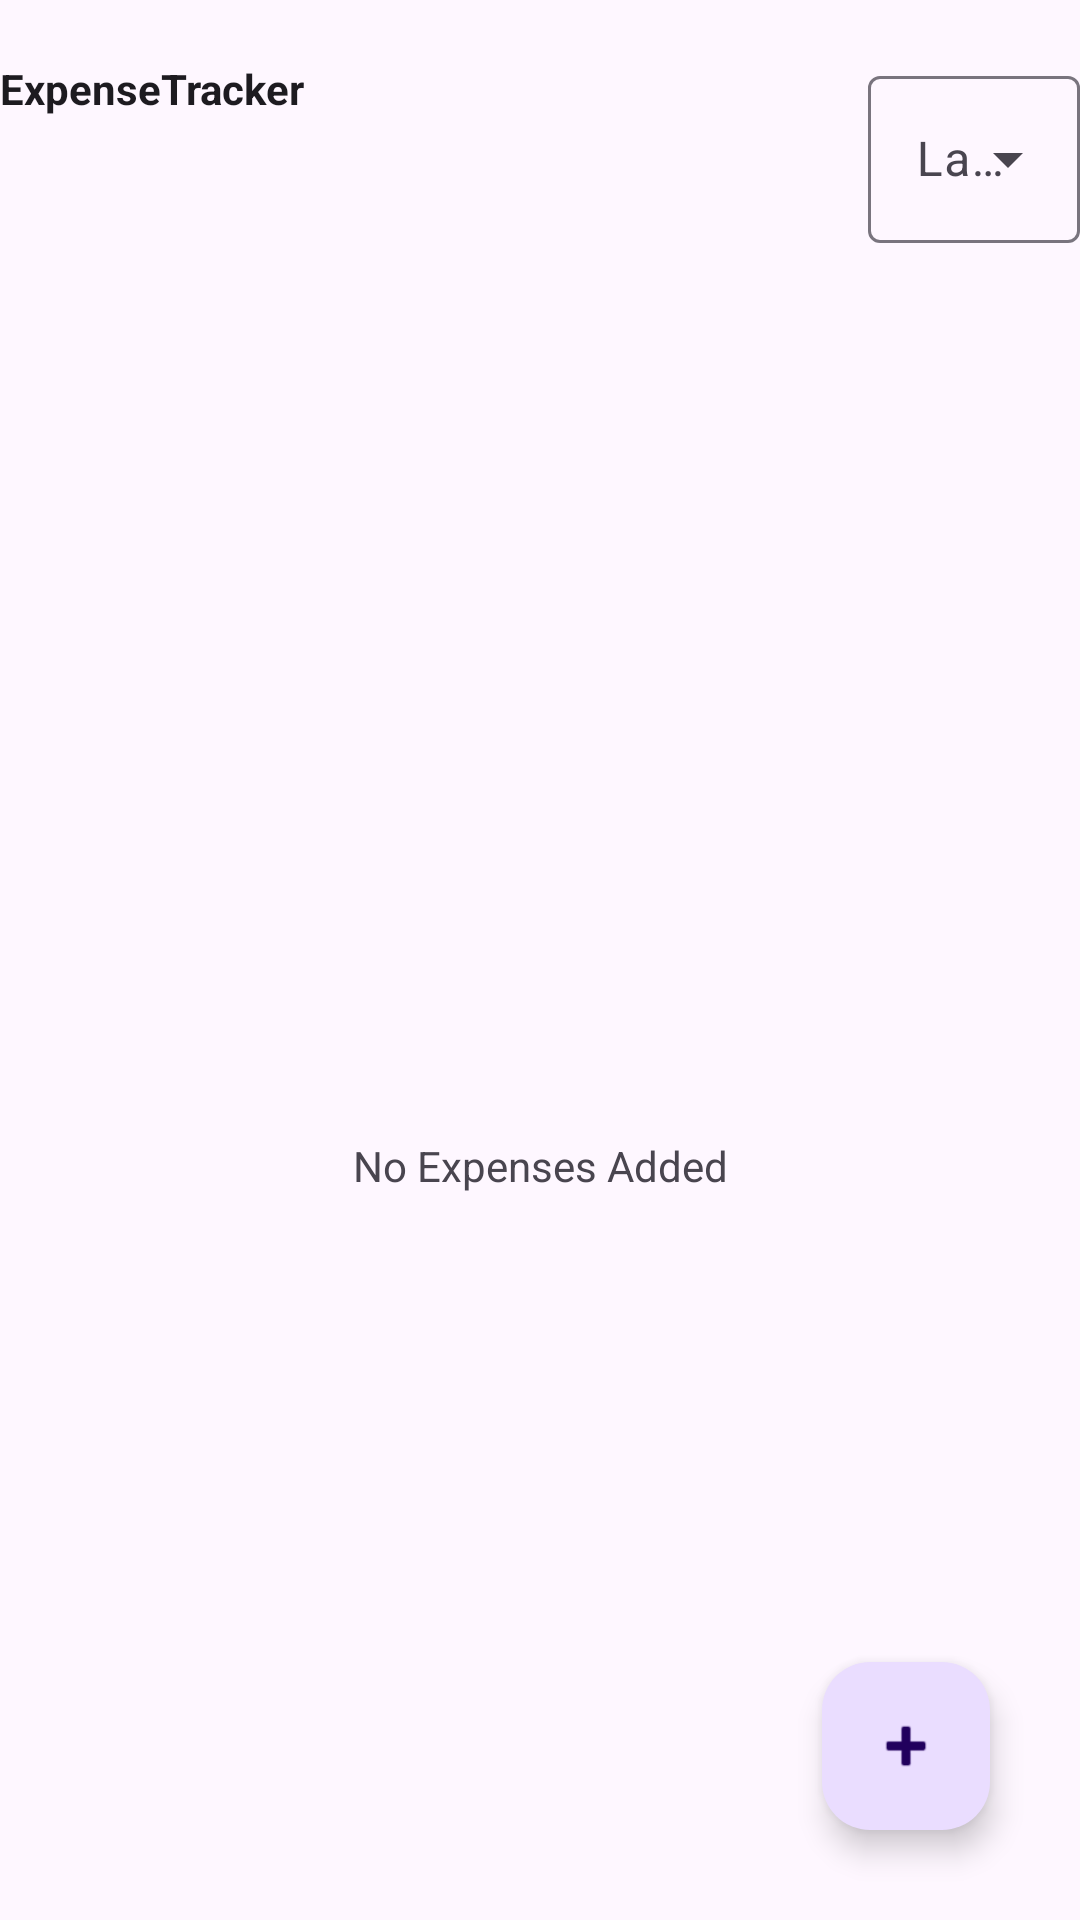

Screen size 1080 x 1920. Icon name, then its box in pixels as [x1,y1,x2,y2]:
Add expense: [822,1662,990,1830]
